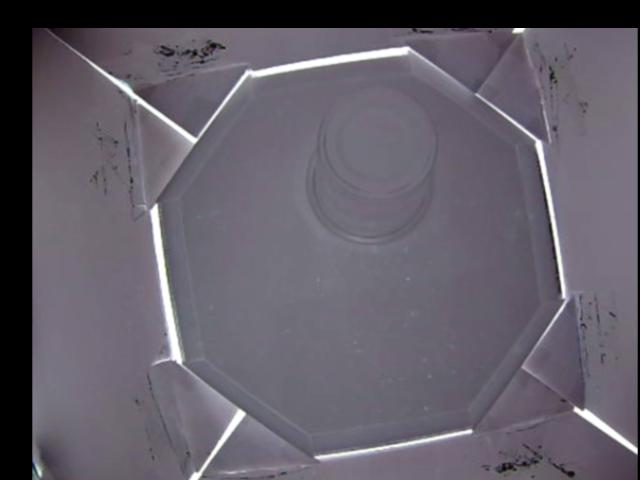Cup: (308, 86, 437, 241)
